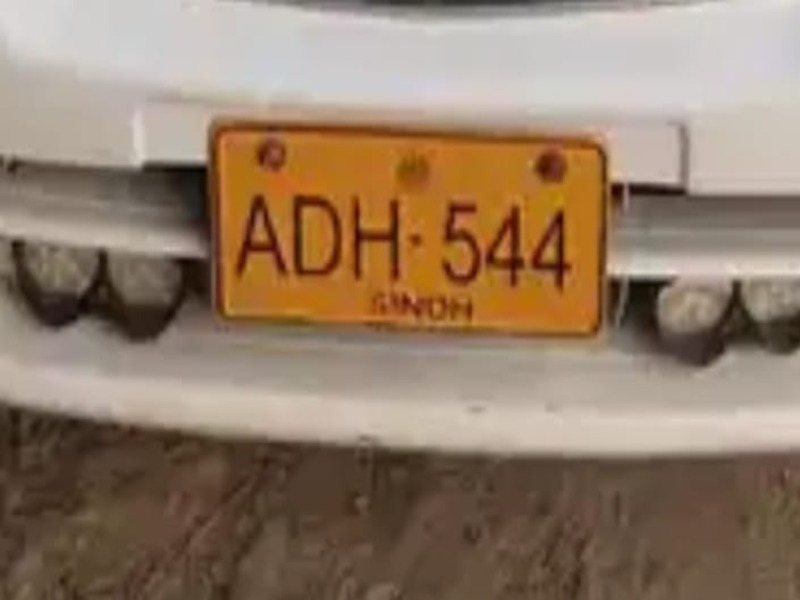License Plate: (208, 113, 611, 342)
